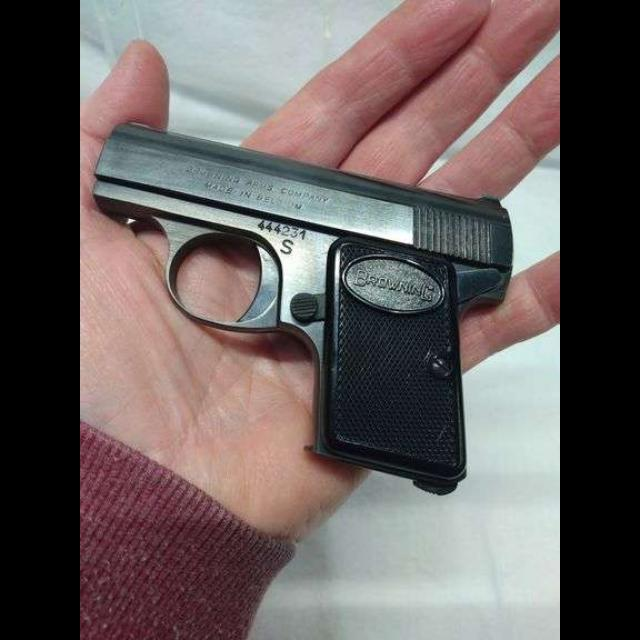handgun: (88, 115, 518, 503)
